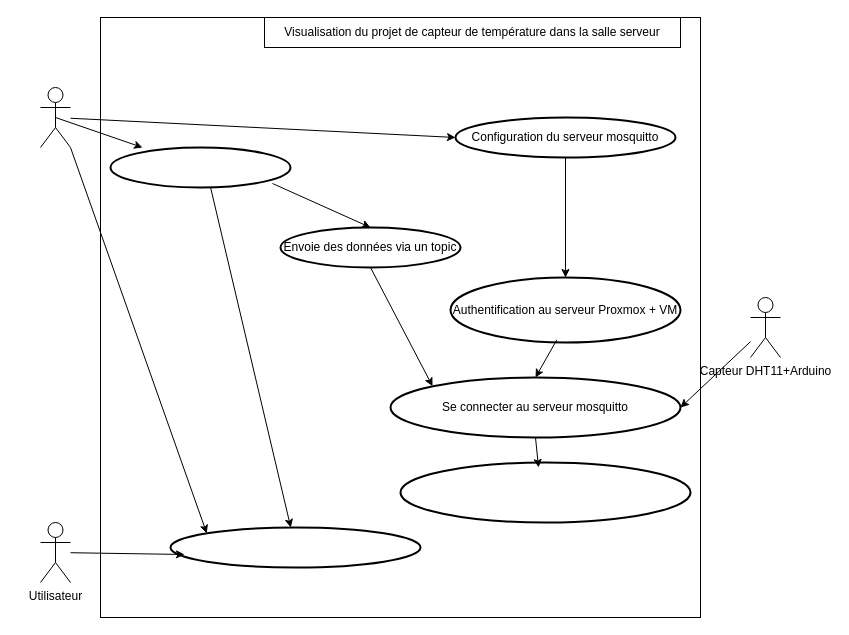
This 849x635 diagram has some shape labels left out. The centre of each missing label's shape, as x and y in pixels:
"Administrateur" belongs at (x=55, y=117).
"Configuration du capteur Arduino" belongs at (x=200, y=167).
"Visualisation d'une page web avec les températures afficher" belongs at (x=295, y=547).
"Visualisation des données sur le serveur mosquitto" belongs at (x=545, y=492).
